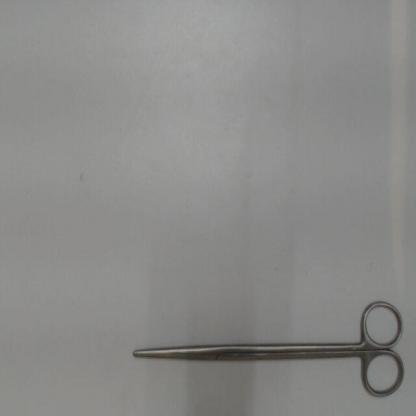9 Metzenbaum Scissors: (131, 293, 408, 401)
